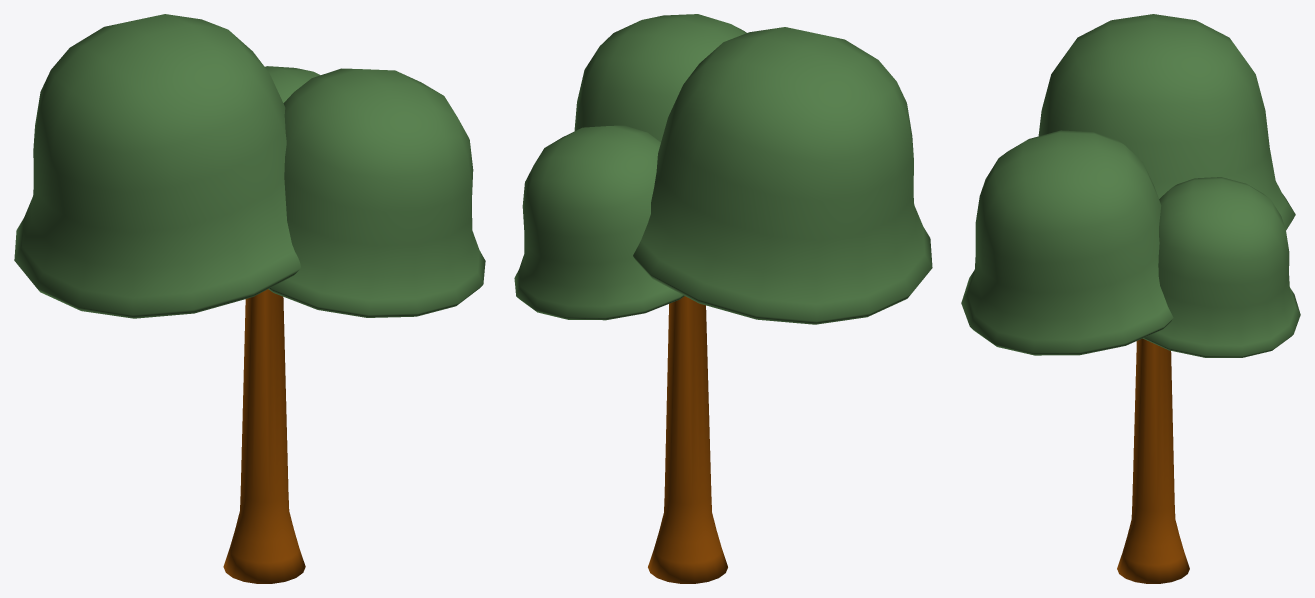
Rendered from WillowTreeGreen.gltf.
The picture shows the model from 3 angles, left to right: view 1: azimuth 30°, elevation 25°; view 2: azimuth 150°, elevation 25°; view 3: azimuth 270°, elevation 25°; orthographic projection. The views are drawn at different scales.
Parts seen in each view (by area): view 1: Cylinder.002; view 2: Cylinder.002; view 3: Cylinder.002.
Boxes of the visible parts, x1=… form: Cylinder.002: x1=14, y1=14, x2=485, y2=583; Cylinder.002: x1=514, y1=14, x2=932, y2=583; Cylinder.002: x1=961, y1=14, x2=1300, y2=583.
Size of the model in its own units: 10.94 by 15.01 by 9.3.
